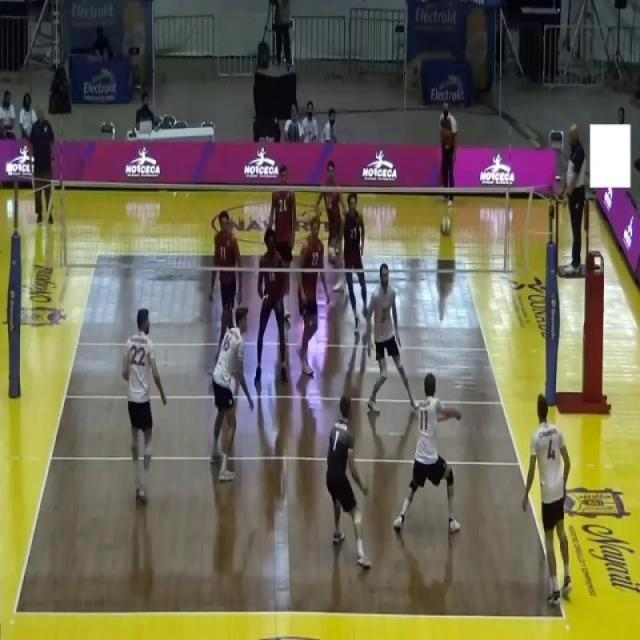volleyball: (440, 215, 452, 238)
